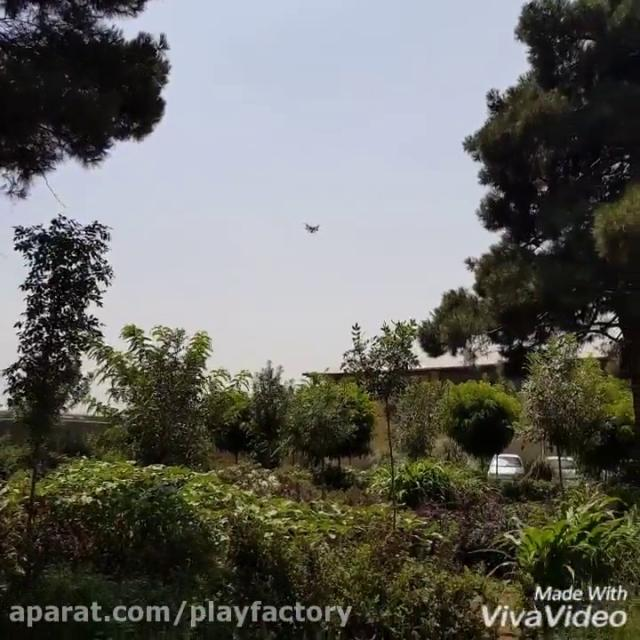drone: (298, 216, 324, 237)
